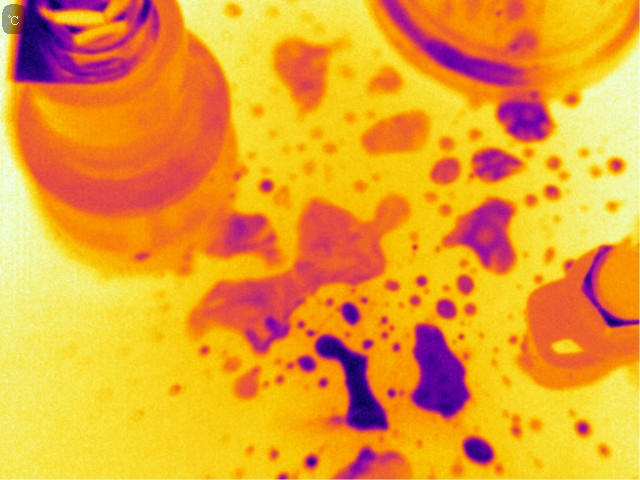Water: (187, 273, 313, 355), (295, 198, 408, 288), (312, 334, 392, 435), (408, 322, 477, 416), (443, 195, 516, 273), (272, 36, 334, 106), (359, 112, 428, 155), (339, 443, 414, 480), (225, 210, 280, 260), (295, 130, 342, 177), (497, 101, 553, 140), (467, 147, 525, 183), (436, 277, 477, 318), (229, 361, 268, 403), (461, 433, 499, 466), (428, 156, 463, 187), (361, 69, 405, 92), (544, 158, 562, 203), (295, 354, 318, 386), (340, 298, 361, 324), (434, 134, 454, 153), (302, 451, 321, 471), (607, 156, 626, 175), (564, 92, 583, 108), (575, 421, 593, 437), (256, 179, 276, 193), (414, 271, 428, 290), (521, 195, 538, 210), (468, 128, 484, 138)
